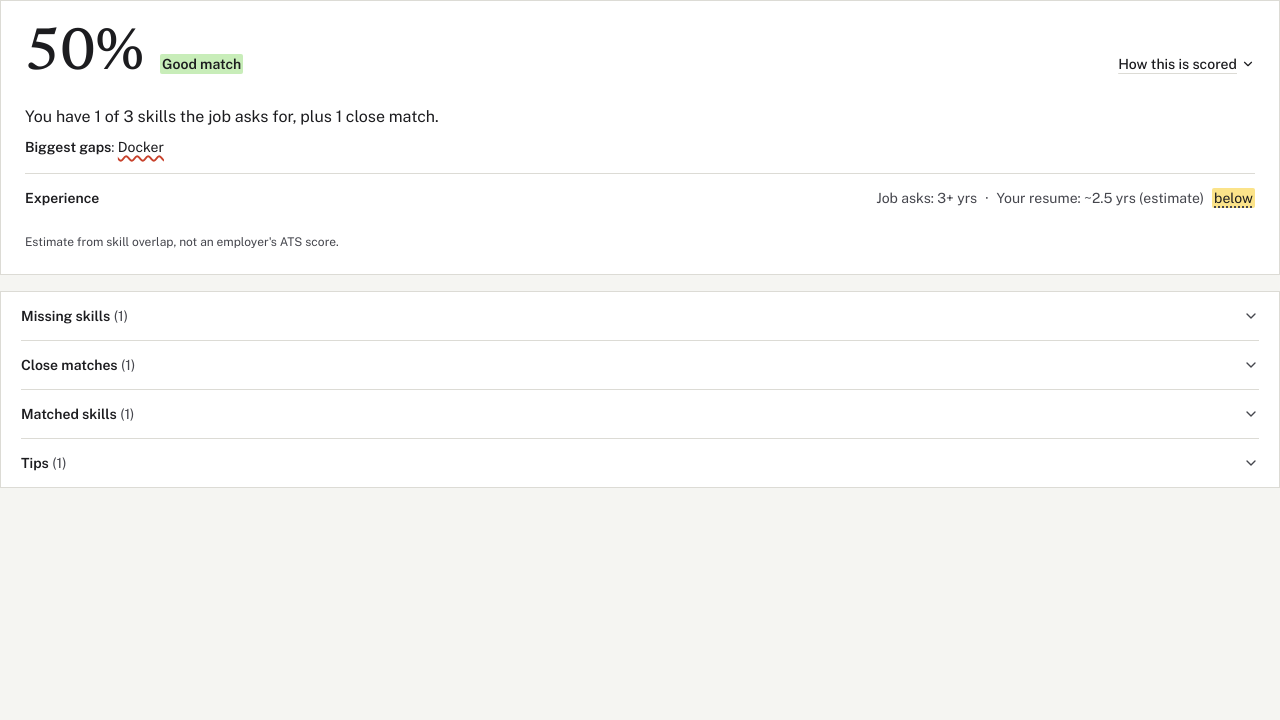
Test: the what-if hint sits with the skills you can mark
The image size is (1280, 720).
Expected: the text "only if you really have it" is not shown
Step 1. Click the button "Missing skills (1)" → (66,316), box [21,292,1259,340]
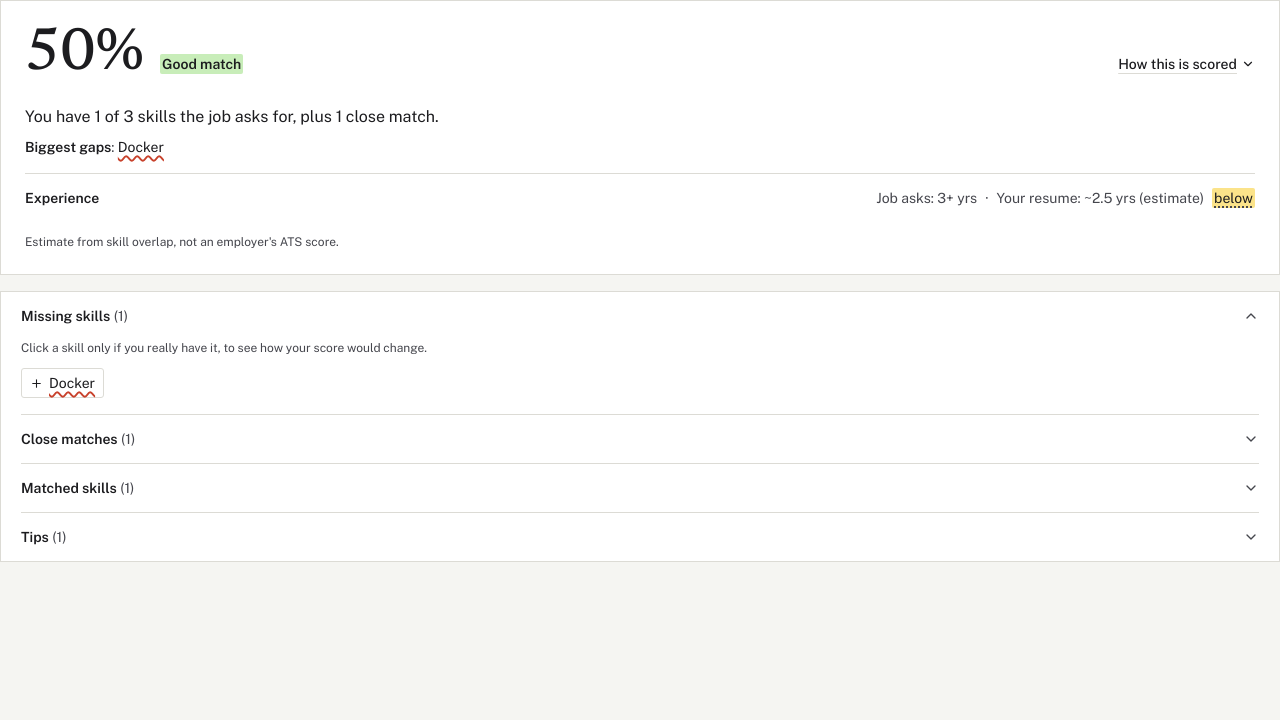
Result: the text "only if you really have it" is shown at [21,341,427,355]
